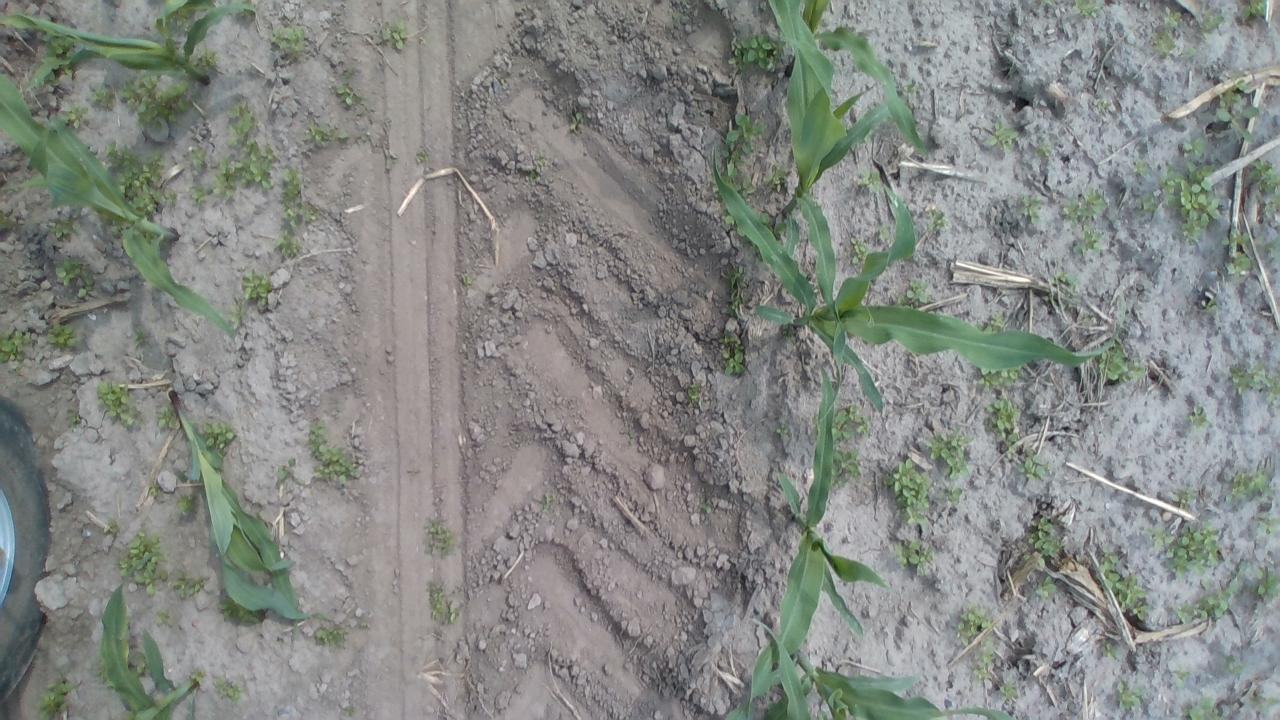Maize: (698, 146, 1126, 413), (0, 64, 246, 338), (736, 362, 898, 720), (770, 0, 894, 340), (165, 385, 336, 621), (720, 619, 1016, 720), (774, 0, 930, 176), (0, 0, 258, 87), (98, 554, 208, 720)
Weeds: (104, 140, 176, 226), (1172, 558, 1246, 626), (1164, 162, 1222, 244), (118, 74, 196, 130), (1146, 522, 1221, 578), (210, 140, 279, 198), (119, 528, 172, 597), (306, 422, 360, 486), (1215, 76, 1262, 144), (884, 456, 931, 524), (722, 112, 767, 183), (926, 428, 976, 481), (278, 166, 316, 232), (1104, 564, 1150, 618), (1151, 7, 1196, 61), (731, 33, 786, 75), (1094, 341, 1146, 385), (1226, 362, 1280, 400), (1218, 224, 1256, 278), (96, 380, 138, 428), (1026, 517, 1066, 566), (34, 678, 77, 720), (832, 402, 874, 444), (952, 604, 994, 646), (1246, 161, 1280, 212), (892, 536, 933, 578), (56, 259, 100, 298), (1060, 189, 1108, 224), (983, 397, 1022, 439), (333, 74, 373, 114), (426, 579, 459, 625), (224, 101, 258, 145), (42, 36, 77, 78), (266, 22, 309, 56), (1226, 468, 1270, 500), (975, 364, 1025, 392), (424, 518, 456, 560), (1046, 270, 1083, 306), (830, 448, 861, 490), (724, 264, 747, 320), (240, 269, 273, 306), (199, 420, 237, 452), (218, 597, 262, 624), (722, 331, 748, 376), (170, 570, 208, 600), (378, 17, 411, 51), (1, 328, 32, 364), (304, 121, 348, 146), (46, 212, 82, 242), (970, 641, 996, 682), (1018, 451, 1051, 483), (213, 676, 247, 706), (898, 279, 935, 305), (1074, 225, 1102, 259), (988, 120, 1018, 150), (1114, 682, 1146, 710), (313, 625, 348, 650), (274, 457, 304, 486), (47, 322, 78, 350), (1182, 698, 1225, 718), (1254, 566, 1280, 598), (1018, 193, 1044, 225), (766, 160, 792, 190), (1245, 694, 1280, 716), (226, 303, 249, 336), (848, 236, 873, 266), (1196, 10, 1224, 36), (1258, 232, 1280, 265), (1239, 0, 1269, 24), (528, 152, 552, 182), (187, 146, 210, 176), (1098, 544, 1121, 574), (60, 104, 88, 128), (154, 406, 178, 434), (1174, 485, 1200, 510), (1188, 405, 1212, 432), (88, 86, 116, 109), (1034, 576, 1058, 602), (195, 50, 221, 74), (936, 484, 965, 505), (188, 183, 212, 208), (764, 212, 787, 238), (278, 232, 300, 259), (928, 206, 949, 234), (984, 312, 1008, 336), (857, 170, 881, 194), (1182, 136, 1206, 160), (1072, 0, 1104, 18), (726, 214, 747, 241), (686, 381, 704, 411), (1135, 191, 1158, 214), (152, 606, 176, 628), (1130, 154, 1152, 178), (733, 177, 758, 198), (1198, 296, 1226, 314), (901, 77, 920, 103), (1255, 512, 1277, 534), (998, 681, 1021, 702), (1102, 640, 1122, 664), (130, 653, 150, 677), (179, 493, 199, 517), (538, 494, 557, 518), (1091, 96, 1120, 111), (173, 9, 191, 33), (569, 106, 589, 127), (144, 480, 165, 500), (132, 330, 150, 352), (64, 409, 82, 430), (874, 222, 892, 242), (1035, 142, 1055, 160), (188, 668, 208, 686), (1004, 438, 1020, 460), (1226, 660, 1247, 676), (459, 270, 476, 288), (414, 146, 430, 165), (102, 519, 118, 537), (1173, 667, 1189, 684), (699, 501, 716, 516), (776, 422, 790, 438), (345, 704, 356, 717)
